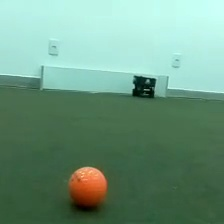ball: (64, 163, 110, 212)
goal: (38, 64, 170, 98)
robot: (130, 72, 157, 100)
